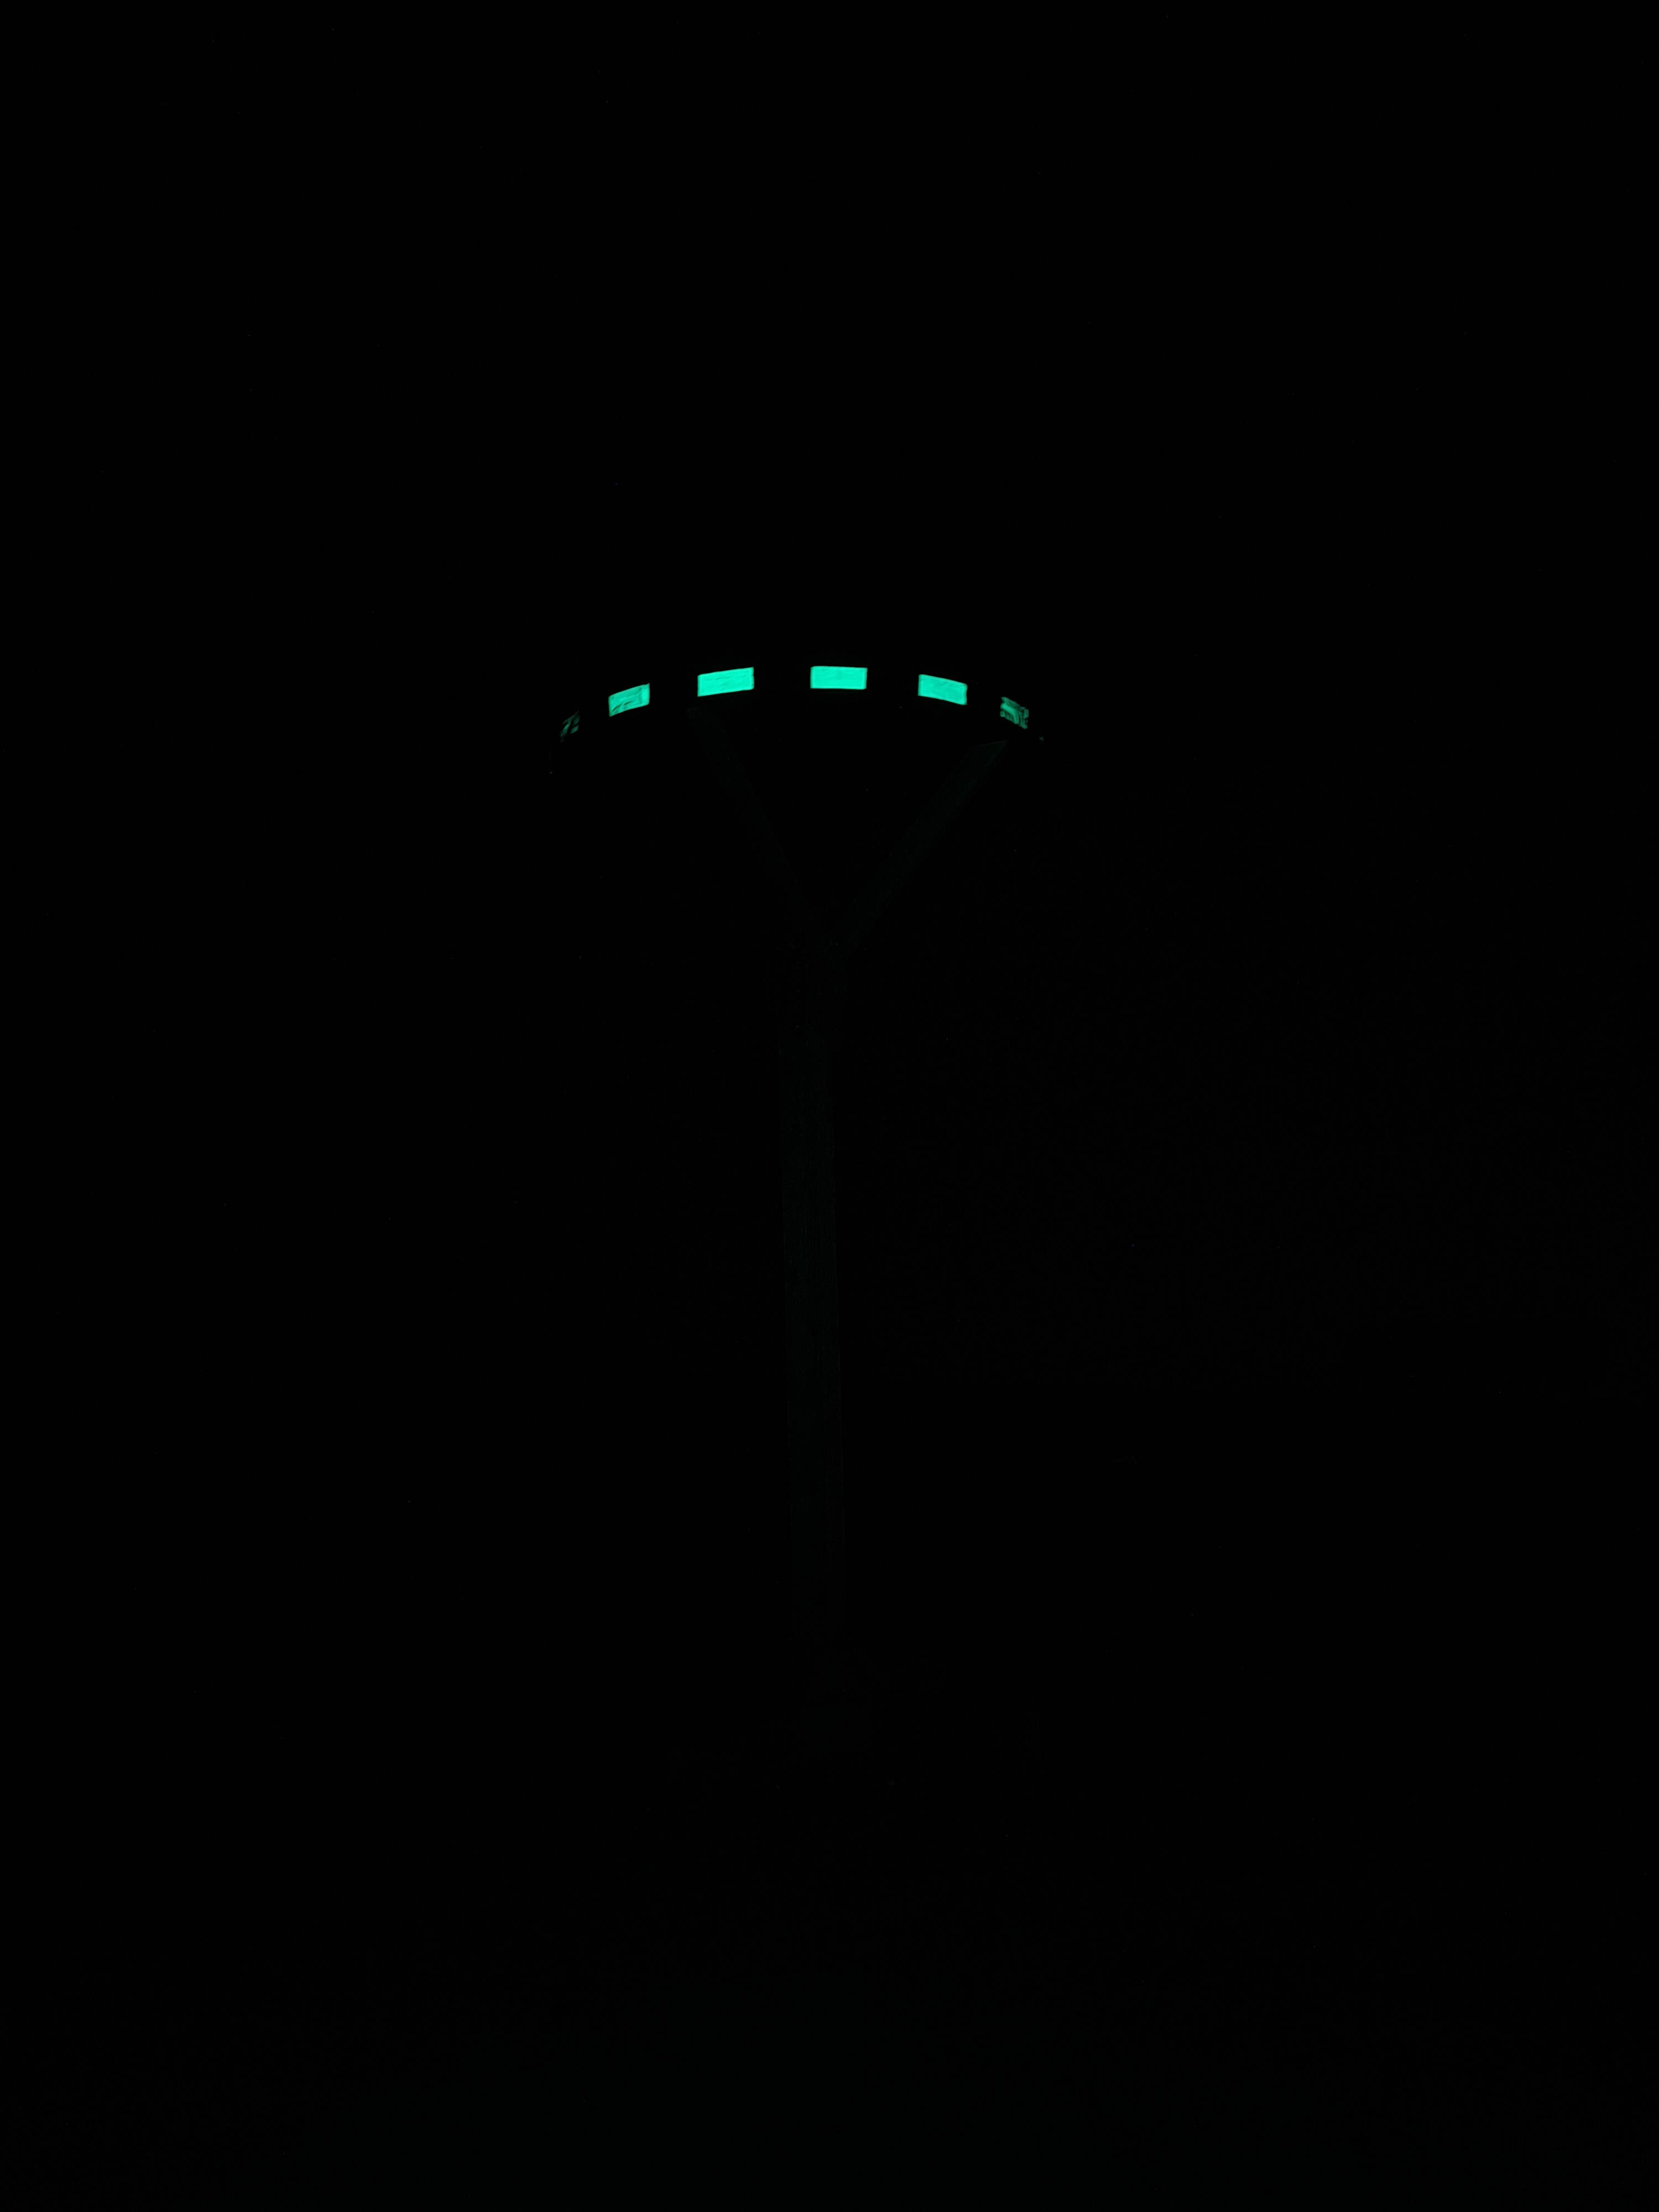hoop: (526, 665, 1063, 756)
